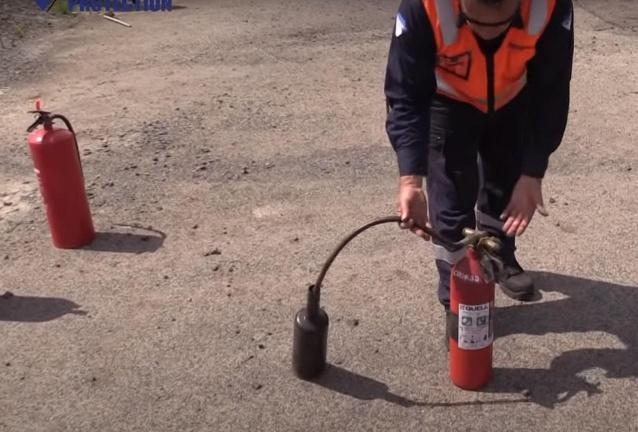APAR: (27, 108, 95, 248), (447, 228, 495, 392)
